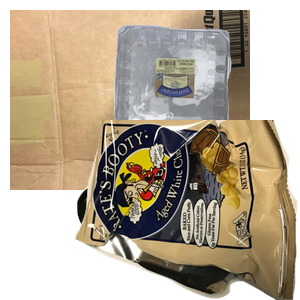cardboard: (10, 10, 250, 190)
glass: (74, 158, 223, 300)
plastic: (112, 22, 300, 160)
trash: (75, 120, 300, 300)
